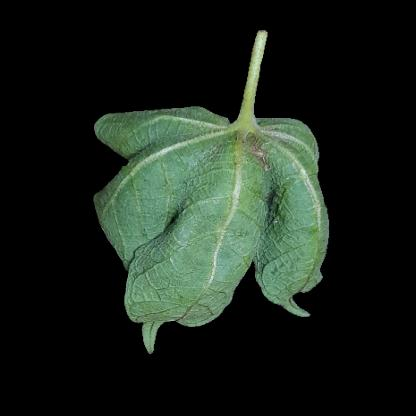curl_stage2: (156, 120, 267, 252), (146, 253, 222, 317), (270, 195, 321, 283), (267, 121, 313, 195), (112, 178, 156, 242), (99, 122, 149, 147)
